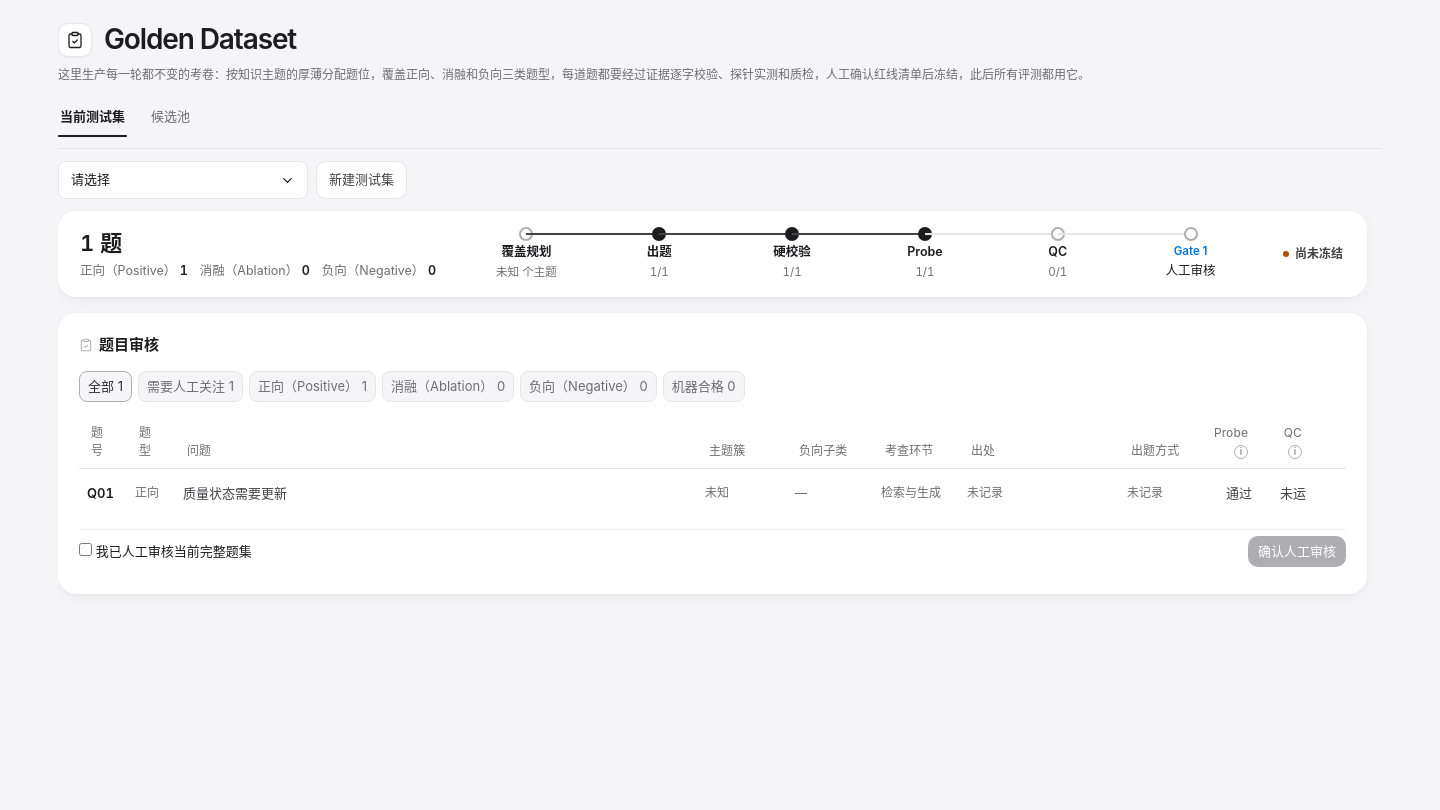
Test: refreshes the resident candidate pool after a saved quality change before switching tabs
This screenshot has width=1440, height=810.
Click the button "Q01 正向 质量状态需要更新 未知 — 检索与生成 未记录 未记录 通过 未运行". click: [712, 493]
box: x1=79 y1=469 x2=1346 y2=517
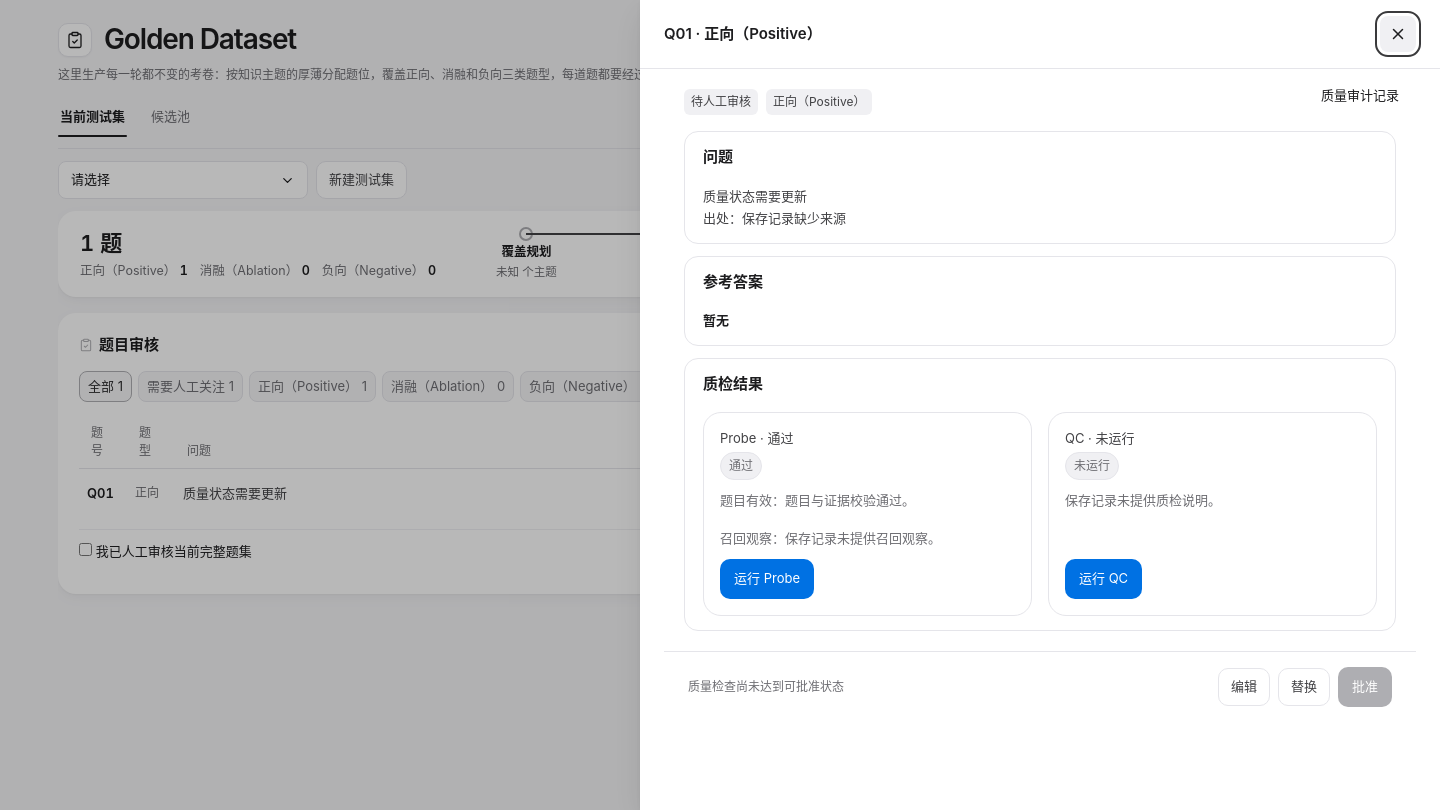
Click the button "运行 QC". click: [1104, 579]
box: x1=1065 y1=559 x2=1142 y2=599
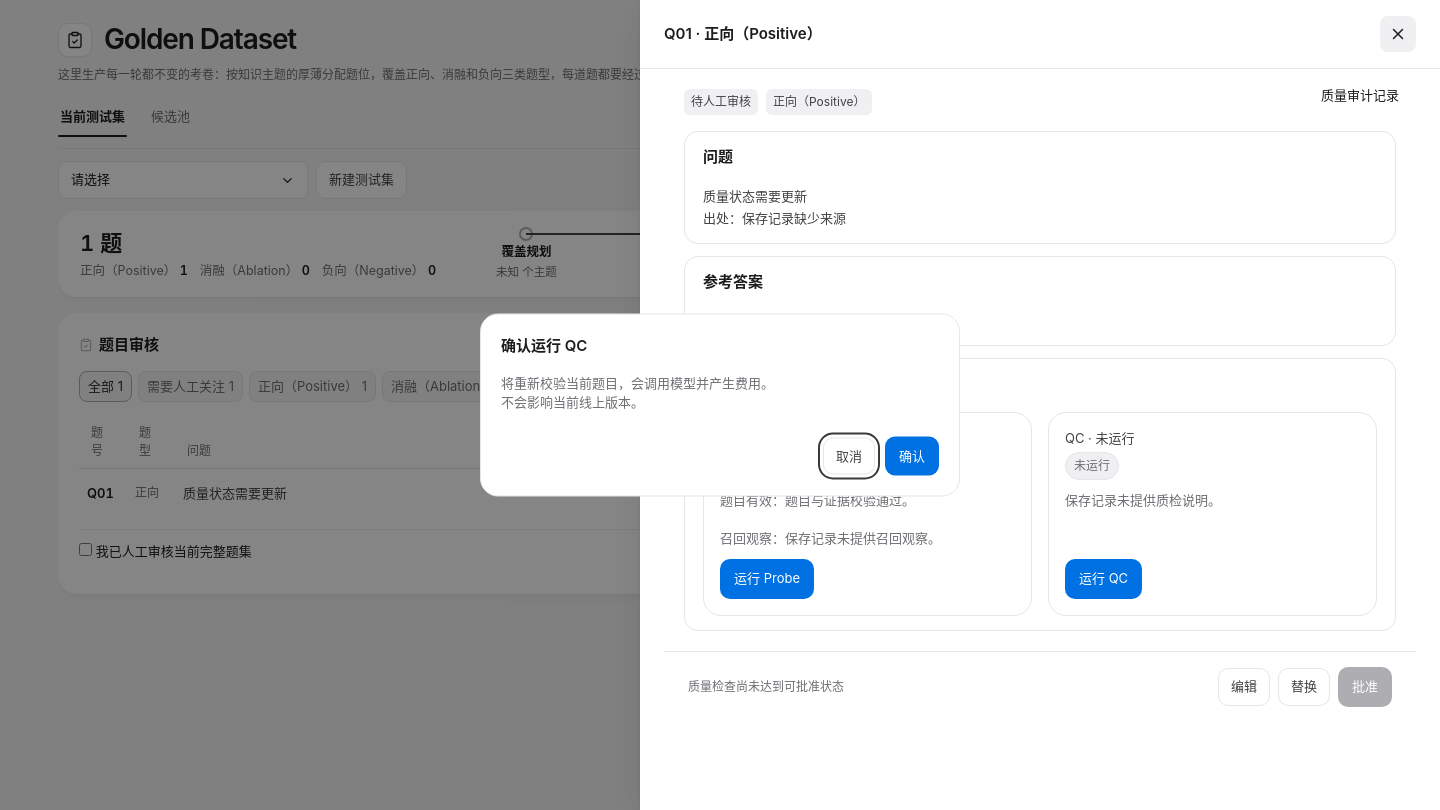
Click the button "确认". click: [912, 456]
box: x1=885 y1=436 x2=939 y2=476
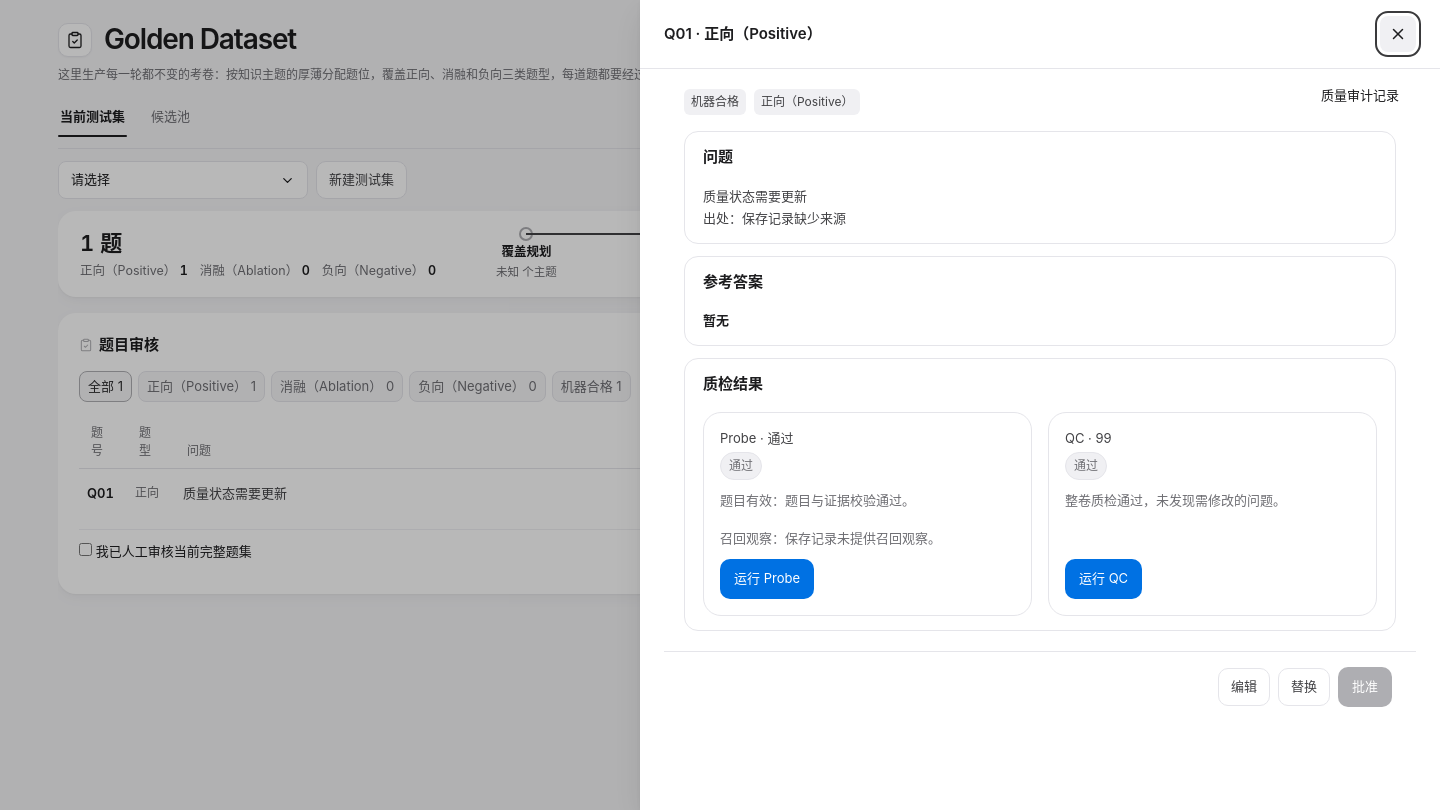
Click the button named "关闭". click: [1398, 34]
box: x1=1380 y1=16 x2=1416 y2=52
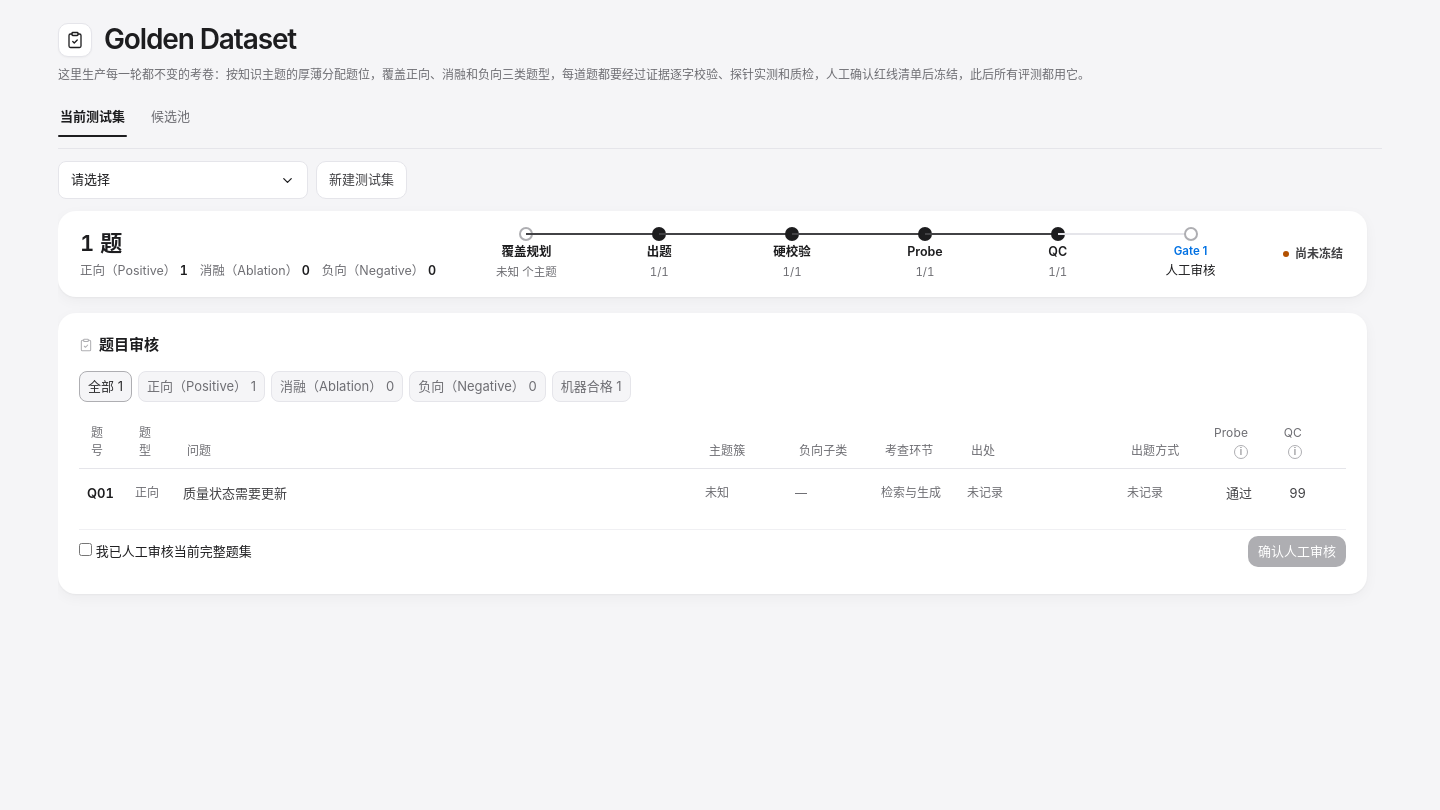
Click the button "候选池". click: [170, 116]
box: x1=149 y1=96 x2=192 y2=136
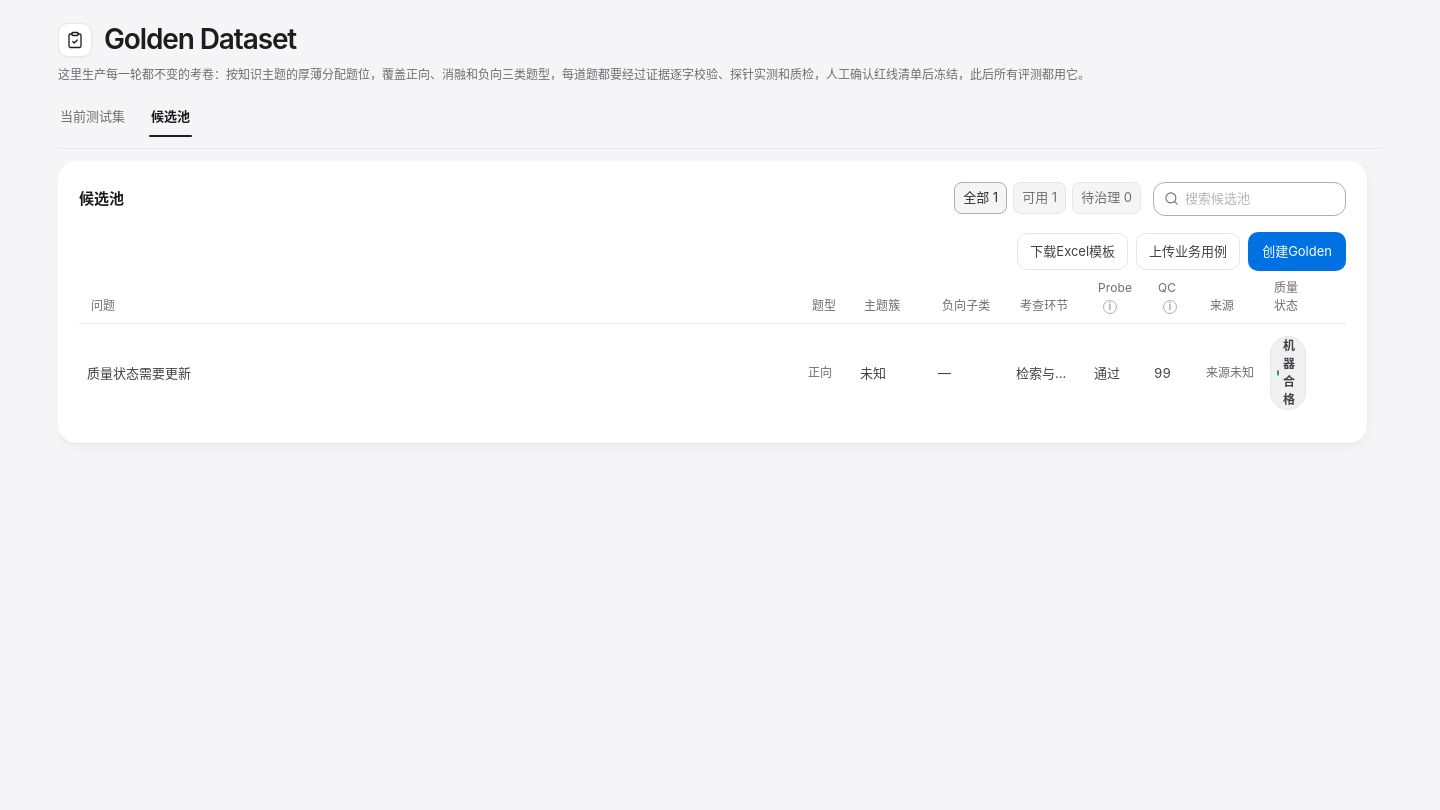
Expected: the element named "候选质量筛选" shows "可用 1", x1=954 y1=182 x2=1141 y2=216
